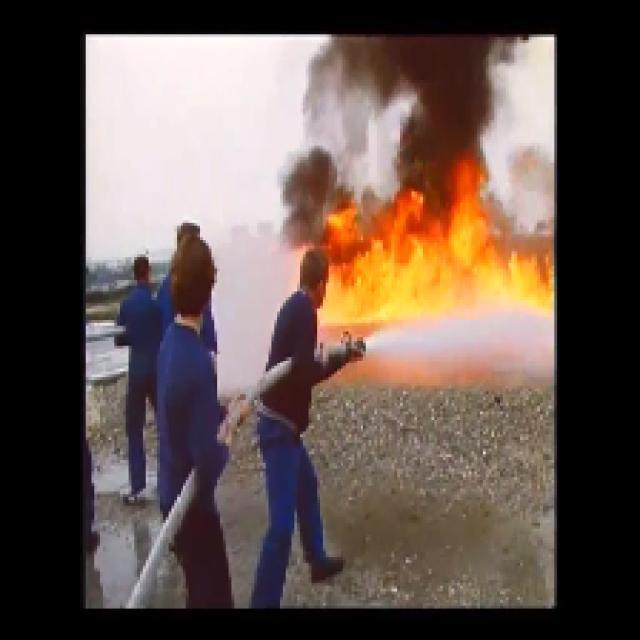Fire: (317, 202, 554, 324)
Smoke: (291, 34, 524, 192)
